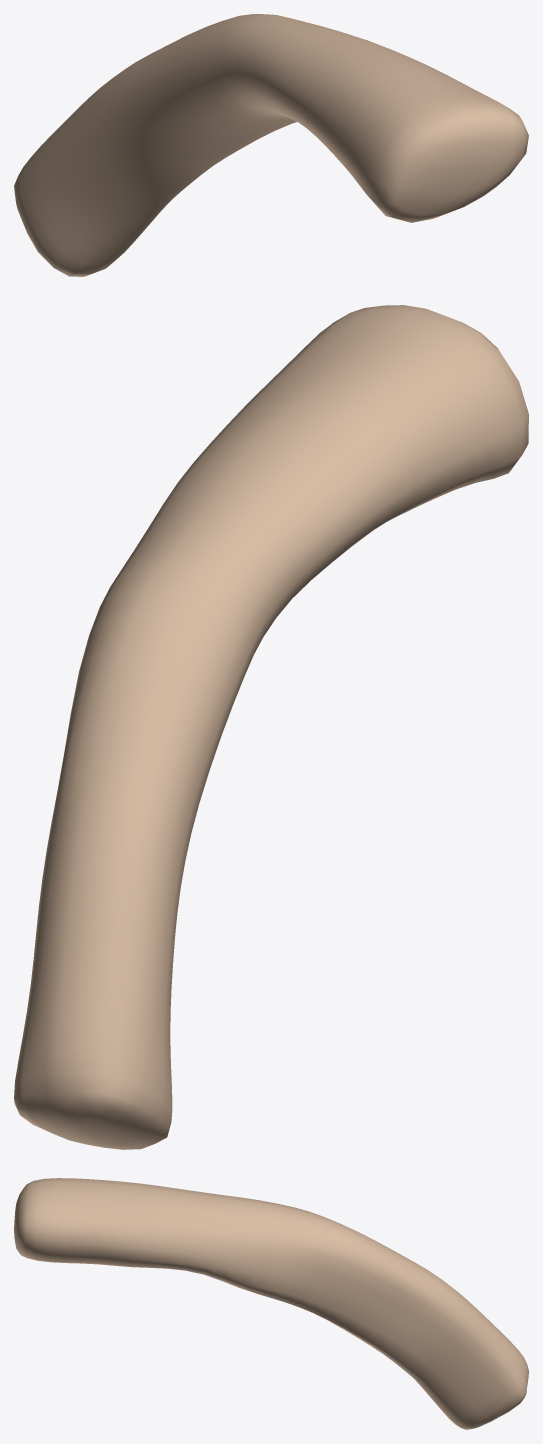
3 views of the same model, one above another, from view 1: azimuth 30°, elevation 25°; view 2: azimuth 150°, elevation 25°; view 3: azimuth 270°, elevation 25° (orthographic). The views are drawn at different scales.
Parts seen in each view (by area): view 1: 右侧腓骨肌总腱鞘; view 2: 右侧腓骨肌总腱鞘; view 3: 右侧腓骨肌总腱鞘.
Boxes of the visible parts, x1,y1,x2,y2 form: 右侧腓骨肌总腱鞘: (14, 14, 528, 276); 右侧腓骨肌总腱鞘: (14, 305, 528, 1149); 右侧腓骨肌总腱鞘: (14, 1178, 528, 1429).
Bounding box in the file's own units: 0.0197 × 0.0356 × 0.0631.
